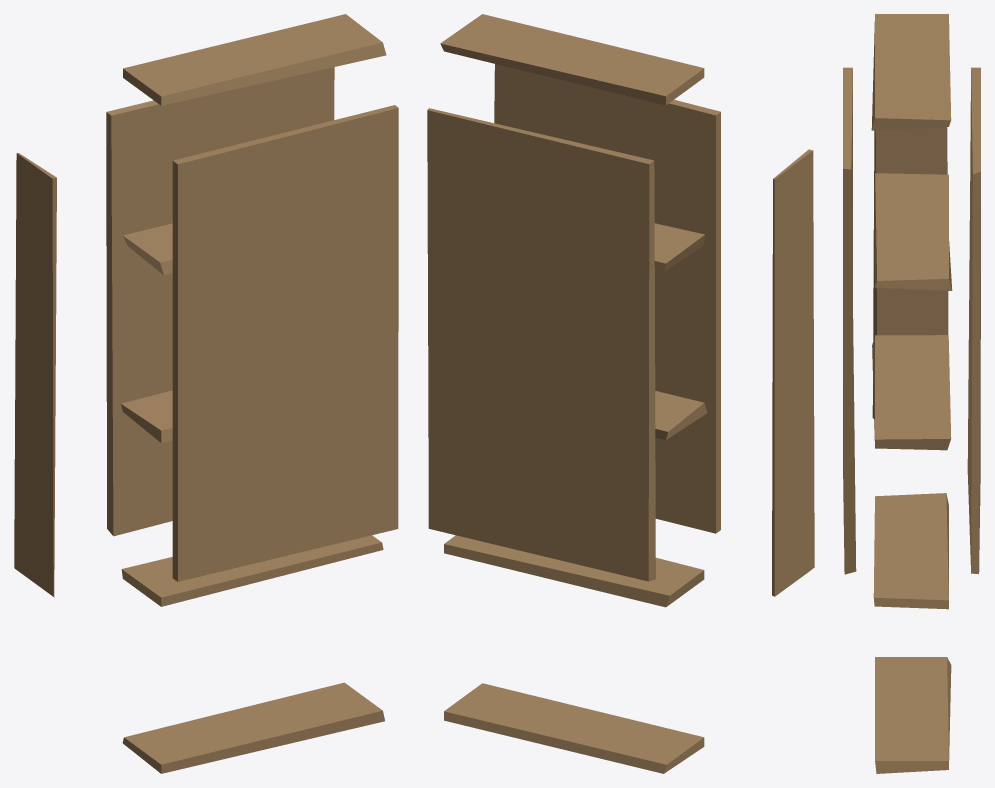
File: shelf_wooden.glb
3 renders of one model, left to right at view 1: azimuth 30°, elevation 25°; view 2: azimuth 150°, elevation 25°; view 3: azimuth 270°, elevation 25°, orthographic. The views are drawn at different scales.
Parts seen in each view (by area): view 1: shelf_wooden; view 2: shelf_wooden; view 3: shelf_wooden.
Part boxes in pixels (x1,y1,x2,y2): shelf_wooden: [14, 14, 398, 773]; shelf_wooden: [427, 14, 814, 773]; shelf_wooden: [843, 14, 980, 773].
Size of the model in its own units: 0.7525 by 1.47 by 0.28.
